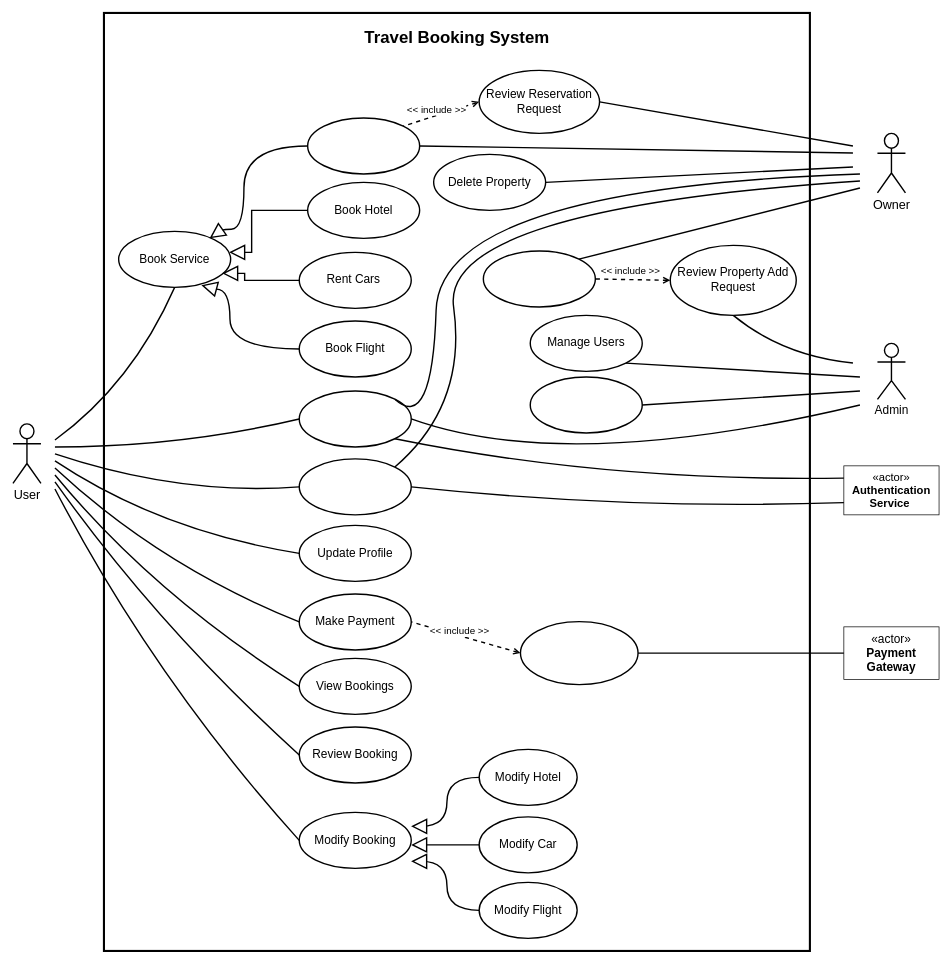
Some shapes in this 951 by 964 pixel diagram are drawn without their labels. Here are the shapes that lost their labels. From the top down, the centre of each, then its label:
At pixel 363 145: "Reserve Property".
At pixel 539 278: "Add Property".
At pixel 355 418: "Log in".
At pixel 586 404: "View reports".
At pixel 355 486: "sign up".
At pixel 578 653: "Validate Payment Method".
